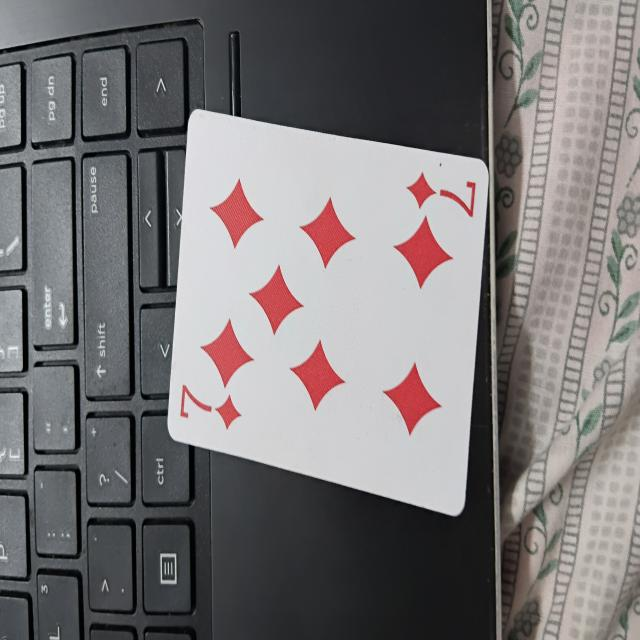7D: (162, 105, 496, 516)
